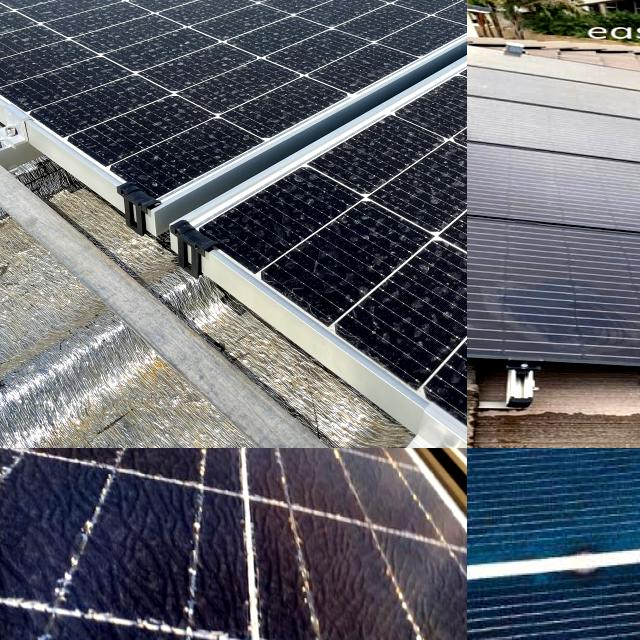dust: (20, 0, 218, 84), (225, 0, 334, 98), (362, 270, 467, 336), (118, 105, 210, 167), (406, 144, 467, 227)
